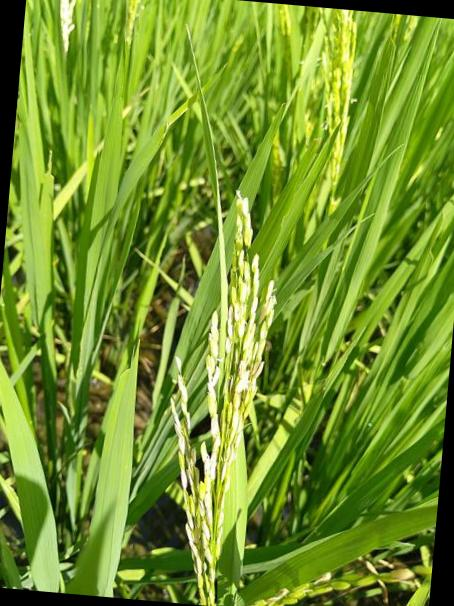Panicle Blight: (165, 251, 276, 585)
